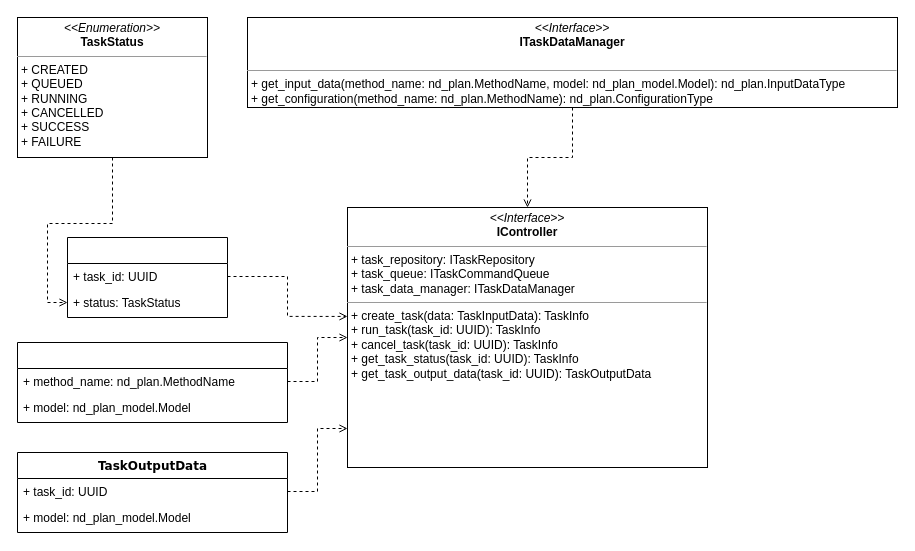
The diagram is 915 pixels wide and 551 high, and some of its shapes have lost their labels. Here are the shapes that lost their labels. From the top down, the box of each, then its label:
(66, 236, 228, 318): TaskInfo
(16, 342, 288, 422): TaskInputData
